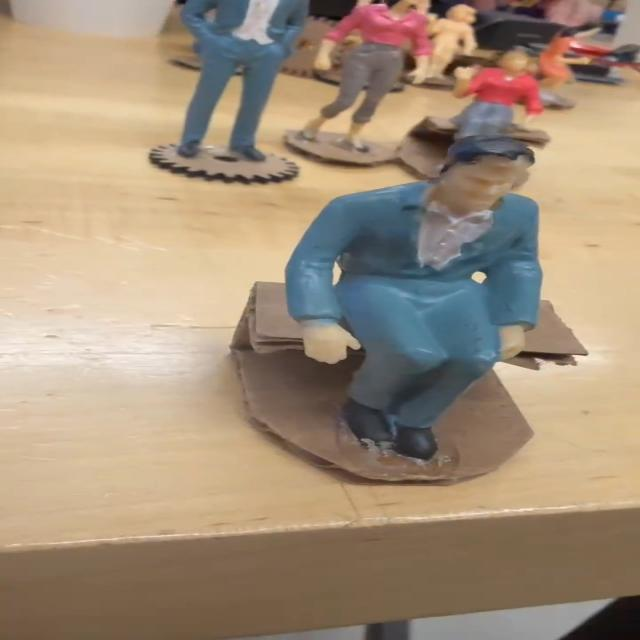Authorized: (276, 136, 560, 463)
